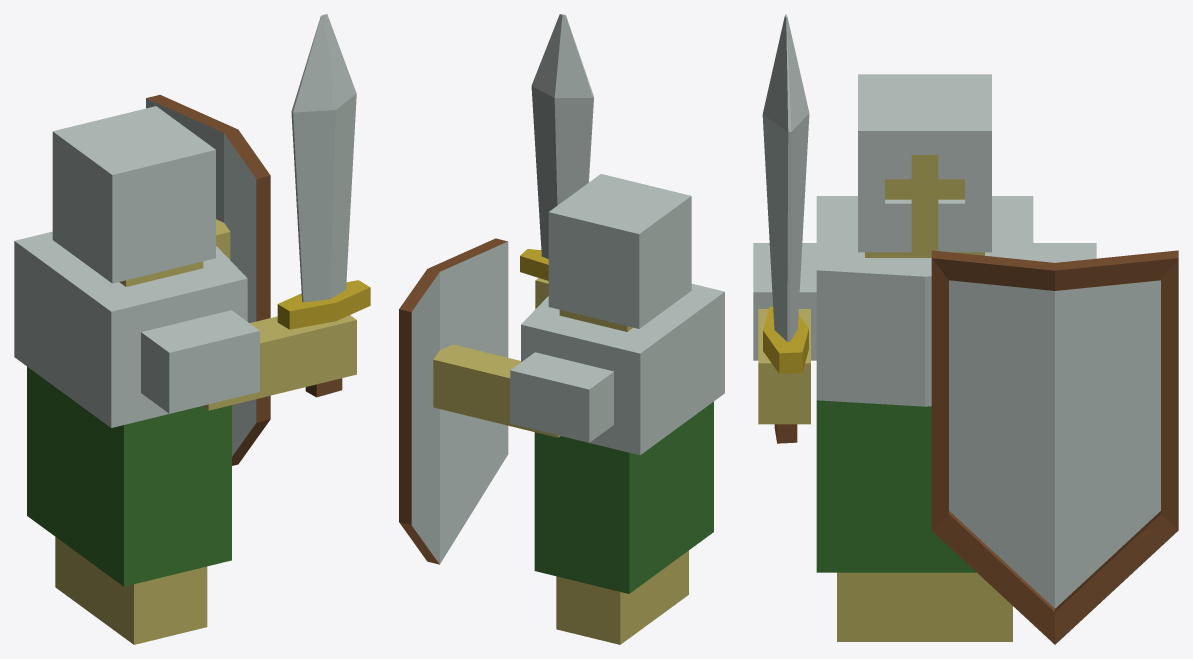
The model's file is swordsman3.fbx.
The picture shows the model from 3 angles, left to right: view 1: azimuth 30°, elevation 25°; view 2: azimuth 150°, elevation 25°; view 3: azimuth 270°, elevation 25°; orthographic projection. The views are drawn at different scales.
Visible parts, largest first — view 1: Cube, Cube.004, Cube.002, Cube.003, Cube.001; view 2: Cube, Cube.003, Cube.004, Cube.002, Cube.001; view 3: Cube.003, Cube, Cube.004, Cube.002, Cube.001.
Boxes of the visible parts, x1,y1,x2,y2 form: Cube: (14,231,259,644); Cube.004: (52,106,215,283); Cube.002: (277,14,370,397); Cube.003: (146,95,270,465); Cube.001: (202,219,356,410); Cube: (510,283,724,644); Cube.003: (399,238,508,564); Cube.004: (548,174,691,328); Cube.002: (520,14,593,280); Cube.001: (433,278,560,437); Cube.003: (931,250,1178,644); Cube: (753,196,1096,641); Cube.004: (858,74,991,252); Cube.002: (762,14,809,443); Cube.001: (758,309,810,424).
Bounding box in the file's own units: 327 × 782 × 445.
